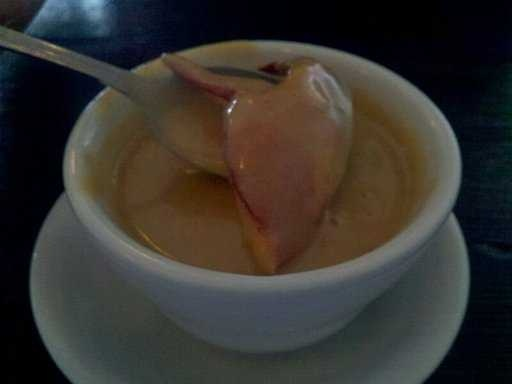soup: (79, 42, 427, 280)
